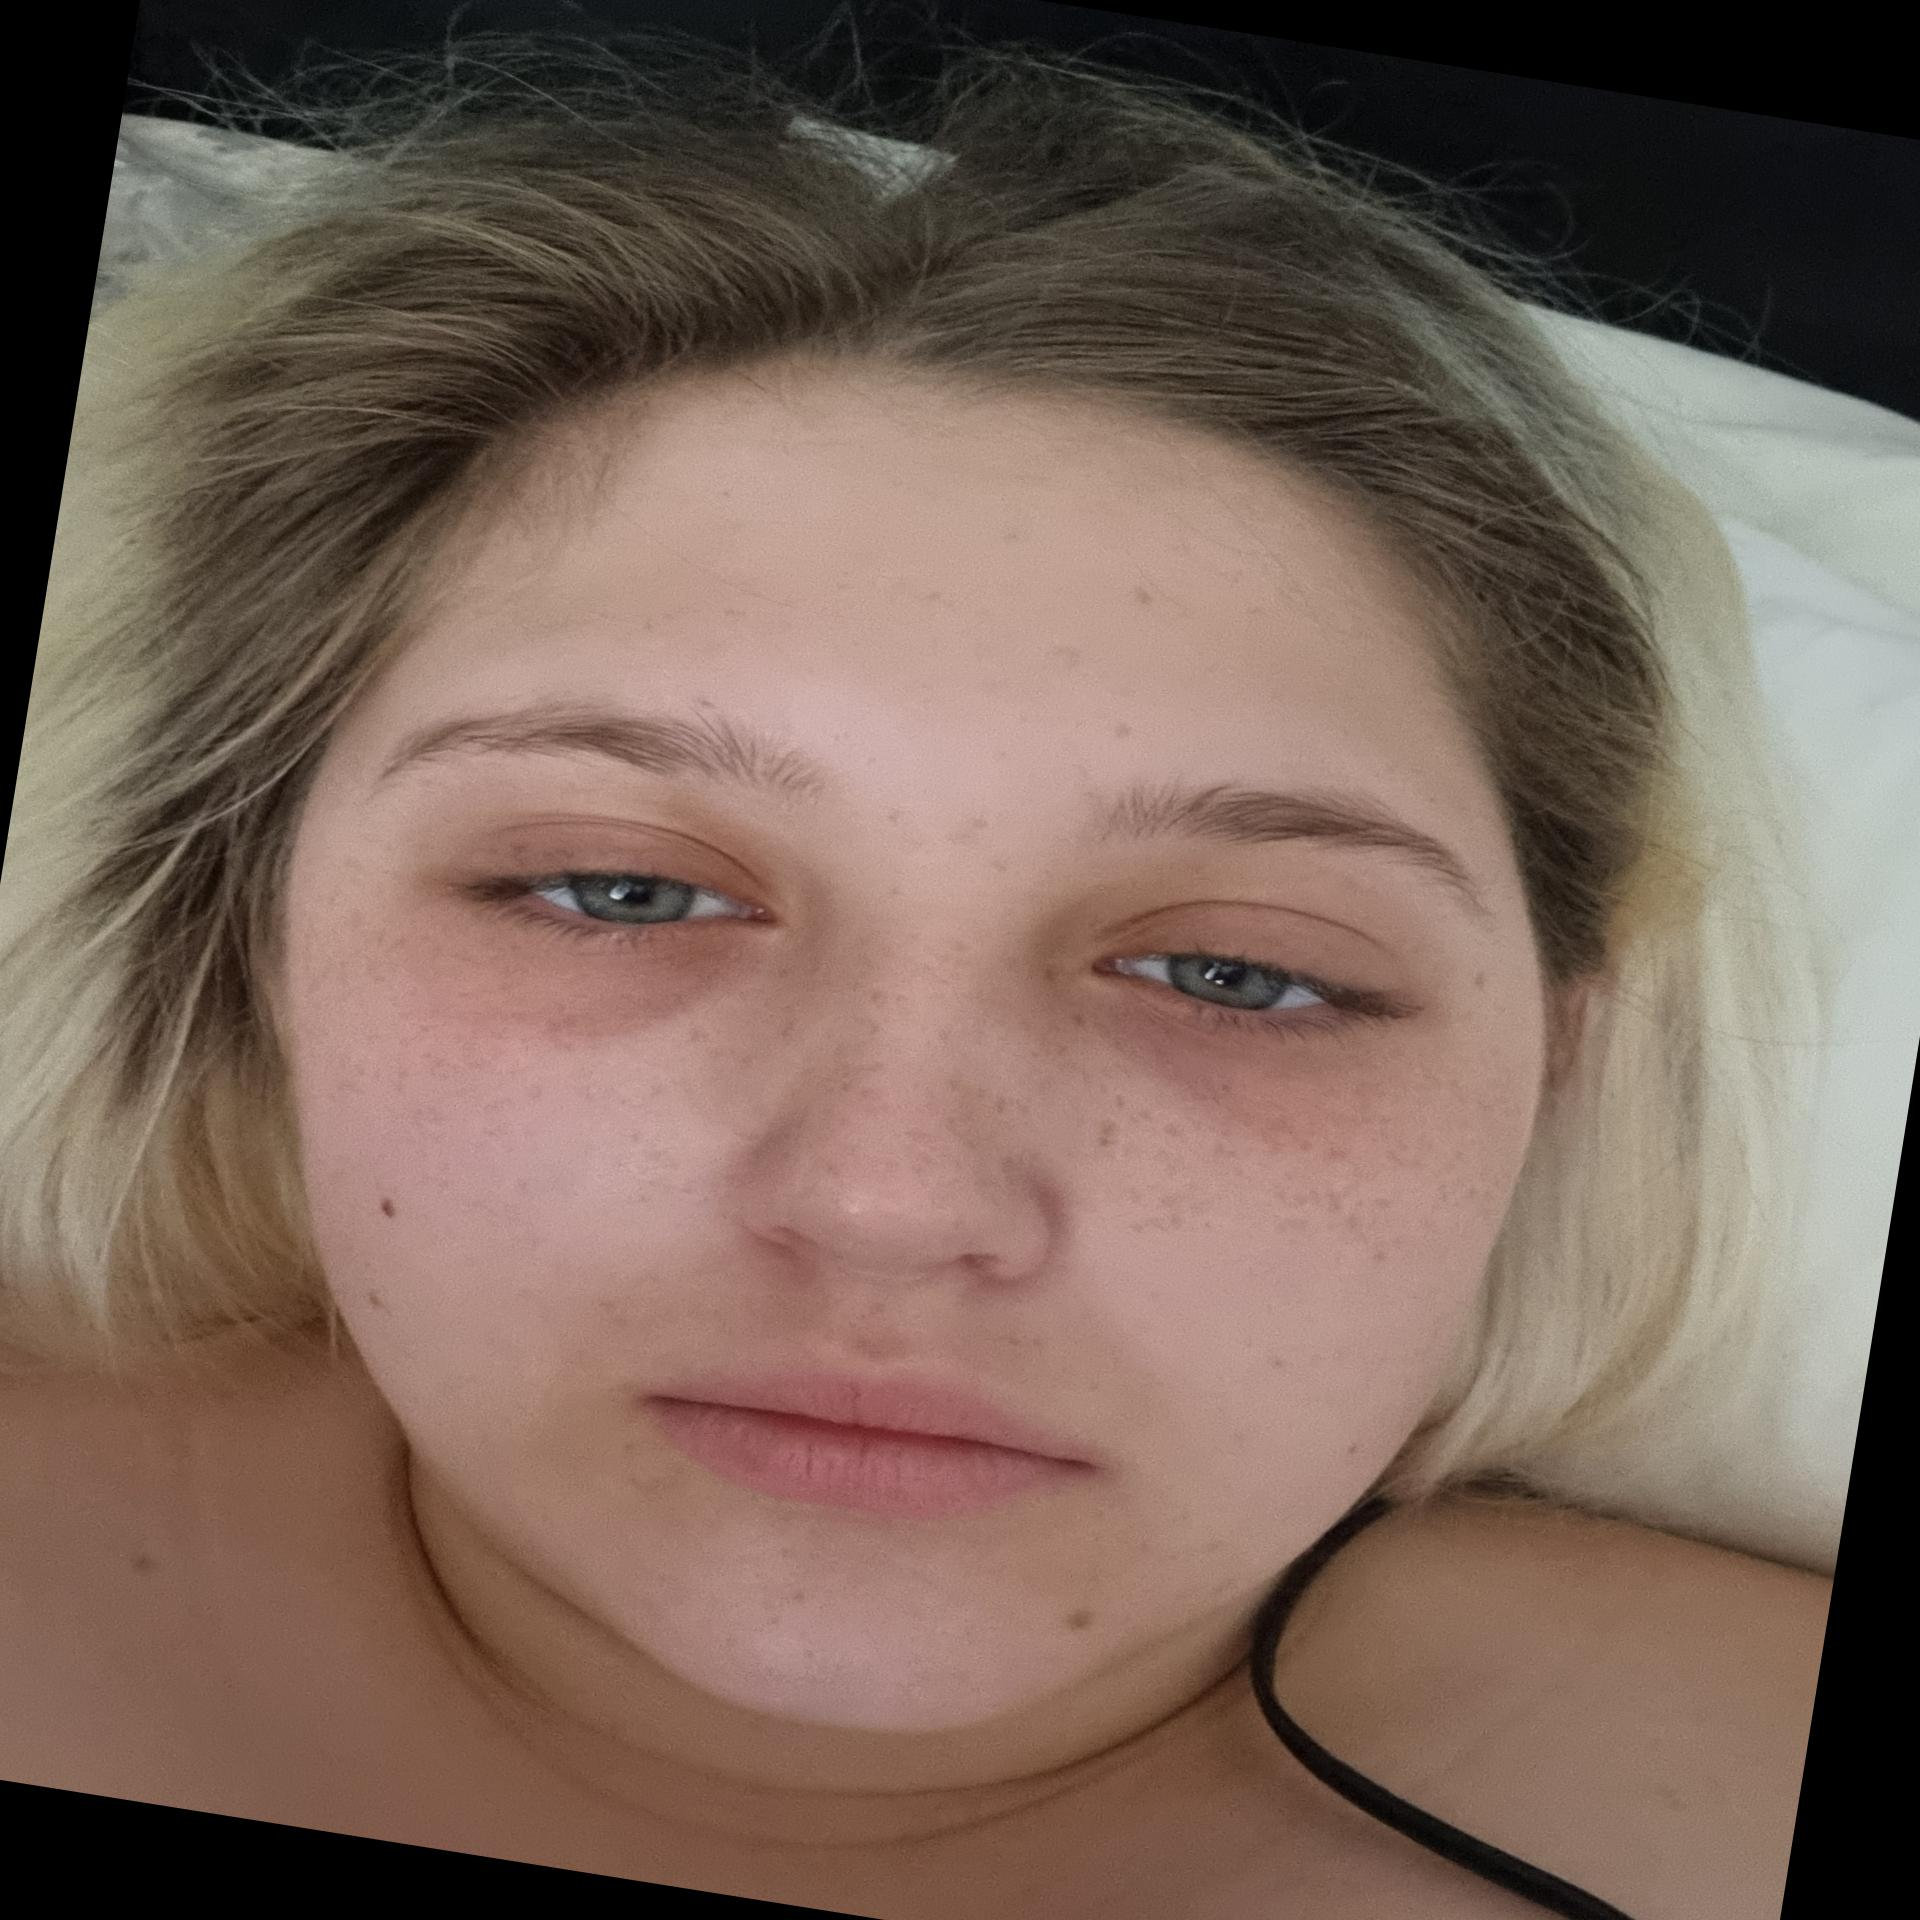Dark Circles: (396, 862, 782, 1071), (1060, 960, 1419, 1153)
